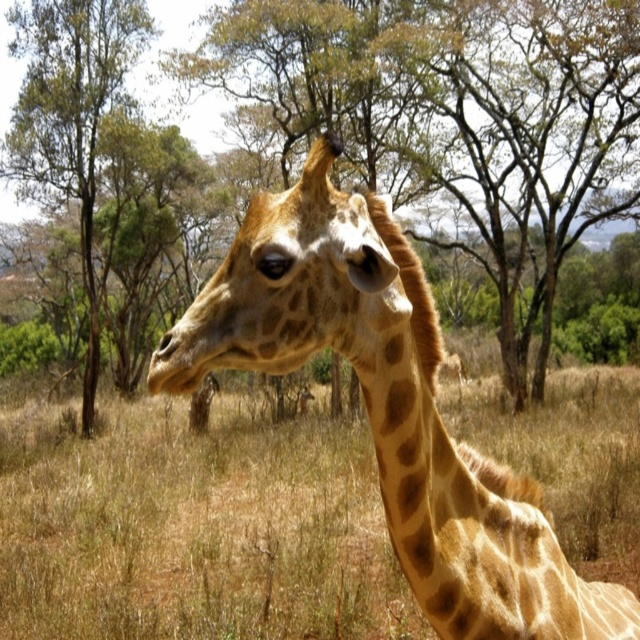Giraffe: (154, 125, 639, 639)
